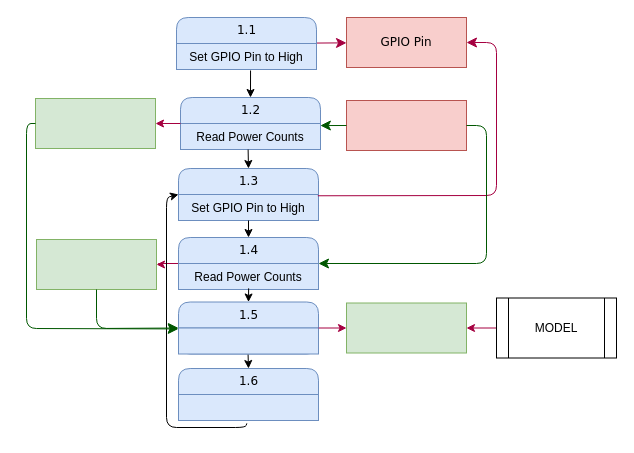
Some shapes in this 634 by 453 pixel diagram are drawn without their labels. Here are the shapes that lost their labels. From the top down, the centre of each, then its label:
point 95,123: Maximum Counts
point 406,125: ADC Converter
point 96,264: Current Counts
point 248,340: Calculate Percentage
point 406,327: Percentage of Power Remaining
point 248,407: Wait 600,000 ms
